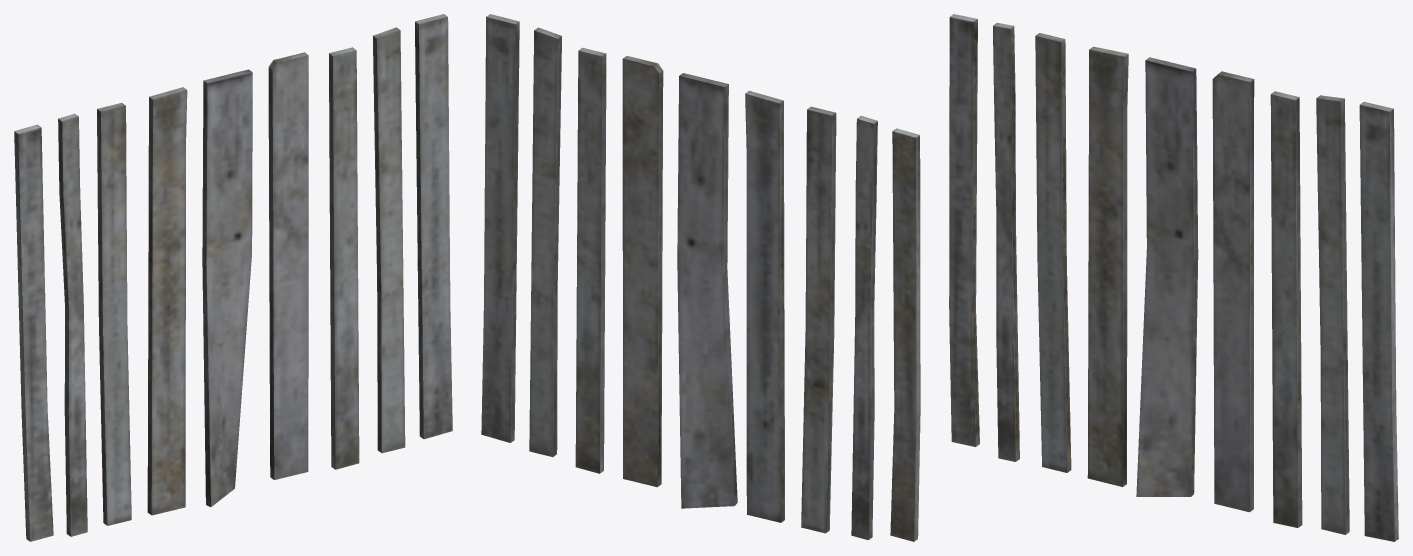
The model's file is WhitePlanks_Lobby.FBX.
The picture shows the model from 3 angles, left to right: view 1: azimuth 30°, elevation 25°; view 2: azimuth 150°, elevation 25°; view 3: azimuth 330°, elevation 25°; orthographic projection. The views are drawn at different scales.
Visible parts, largest first — view 1: WhitePlanks_Lobby_08, WhitePlanks_Lobby_06, WhitePlanks_Lobby_09, WhitePlanks_Lobby_01, WhitePlanks_Lobby_05, WhitePlanks_Lobby_03, WhitePlanks_Lobby_07, WhitePlanks_Lobby_04, WhitePlanks_Lobby_02; view 2: WhitePlanks_Lobby_08, WhitePlanks_Lobby_06, WhitePlanks_Lobby_09, WhitePlanks_Lobby_01, WhitePlanks_Lobby_05, WhitePlanks_Lobby_03, WhitePlanks_Lobby_07, WhitePlanks_Lobby_04, WhitePlanks_Lobby_02; view 3: WhitePlanks_Lobby_08, WhitePlanks_Lobby_06, WhitePlanks_Lobby_09, WhitePlanks_Lobby_01, WhitePlanks_Lobby_05, WhitePlanks_Lobby_03, WhitePlanks_Lobby_07, WhitePlanks_Lobby_04, WhitePlanks_Lobby_02.
Part boxes in pixels (x1,y1,x2,y2): WhitePlanks_Lobby_08: (202,69,252,506); WhitePlanks_Lobby_06: (268,52,308,479); WhitePlanks_Lobby_09: (147,87,187,515); WhitePlanks_Lobby_01: (415,14,452,439); WhitePlanks_Lobby_05: (97,103,131,525); WhitePlanks_Lobby_03: (329,47,359,469); WhitePlanks_Lobby_07: (372,27,405,453); WhitePlanks_Lobby_04: (14,124,53,541); WhitePlanks_Lobby_02: (58,113,87,536); WhitePlanks_Lobby_08: (677,73,737,508); WhitePlanks_Lobby_06: (622,56,663,487); WhitePlanks_Lobby_09: (745,90,784,522); WhitePlanks_Lobby_01: (481,14,519,442); WhitePlanks_Lobby_05: (801,106,836,533); WhitePlanks_Lobby_03: (575,47,606,473); WhitePlanks_Lobby_07: (529,27,561,456); WhitePlanks_Lobby_04: (890,128,920,541); WhitePlanks_Lobby_02: (851,116,877,540); WhitePlanks_Lobby_08: (1136,57,1198,496); WhitePlanks_Lobby_06: (1212,71,1254,512); WhitePlanks_Lobby_09: (1087,46,1128,486); WhitePlanks_Lobby_01: (1359,102,1398,541); WhitePlanks_Lobby_05: (1035,33,1071,472); WhitePlanks_Lobby_03: (1270,91,1302,527); WhitePlanks_Lobby_07: (1316,95,1349,534); WhitePlanks_Lobby_04: (949,14,979,446); WhitePlanks_Lobby_02: (993,23,1019,461).
Size of the model in its own units: 196 by 186 by 14.5.
